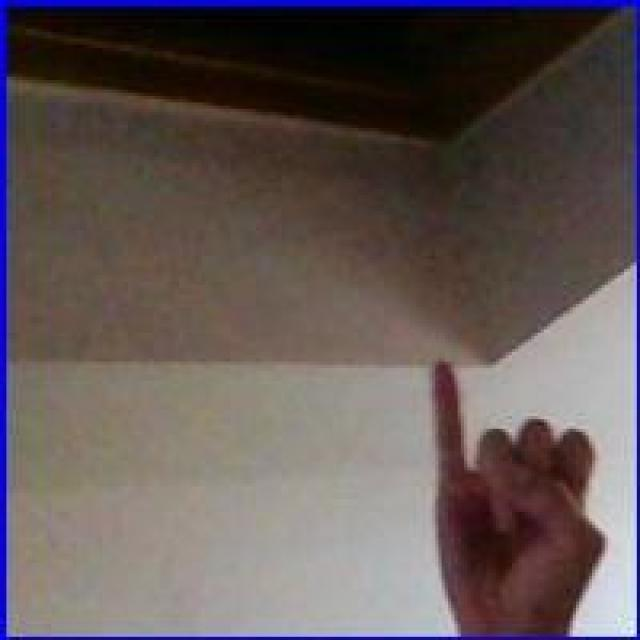I: (424, 350, 610, 632)
